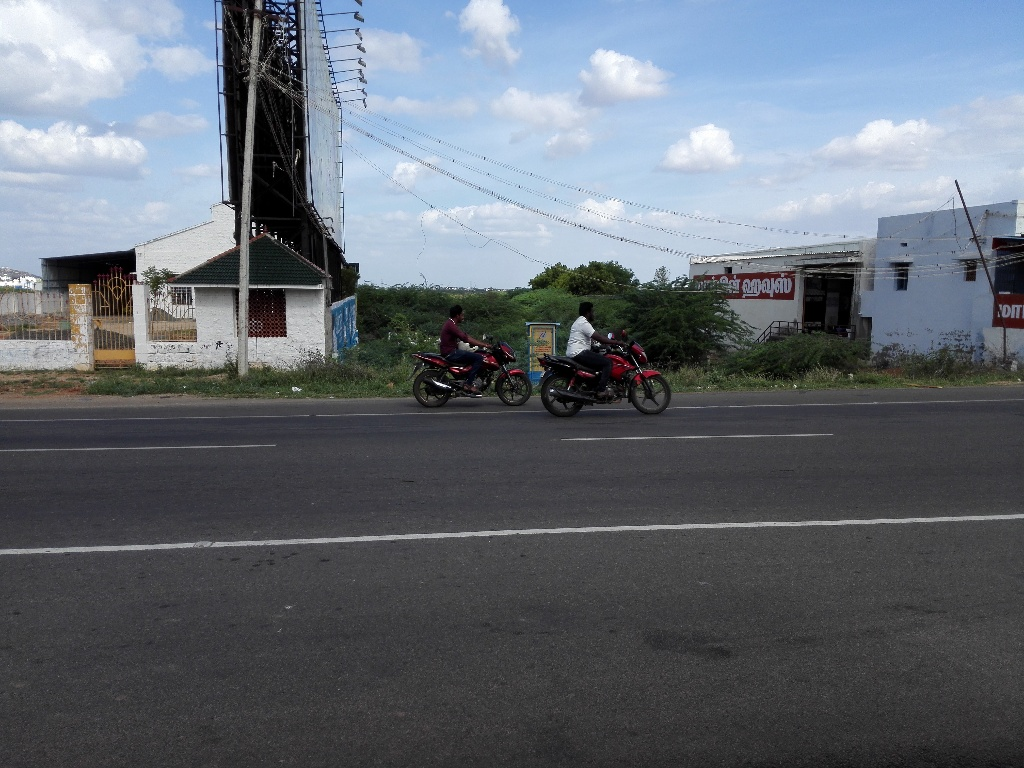biker: (388, 282, 538, 427), (537, 284, 687, 429)
nohelmet: (573, 297, 601, 327), (446, 300, 471, 331)
